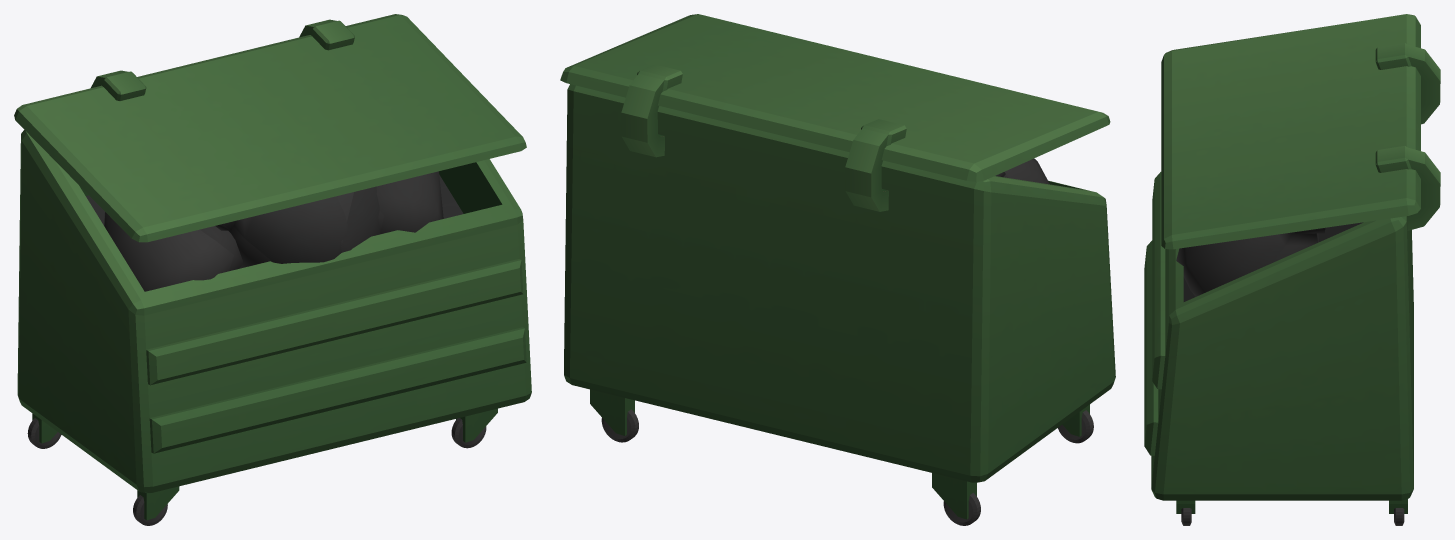
The model's file is Dumpster.fbx.
The picture shows the model from 3 angles, left to right: view 1: azimuth 30°, elevation 25°; view 2: azimuth 150°, elevation 25°; view 3: azimuth 270°, elevation 25°; orthographic projection. The views are drawn at different scales.
Visible parts, largest first — view 1: Icosphere.001; view 2: Icosphere.001; view 3: Icosphere.001.
Part boxes in pixels (bbox=[...]): Icosphere.001: bbox=[14, 14, 531, 525]; Icosphere.001: bbox=[560, 14, 1115, 525]; Icosphere.001: bbox=[1144, 14, 1440, 525].
Bounding box in the file's own units: 2650 × 2264 × 1707.
